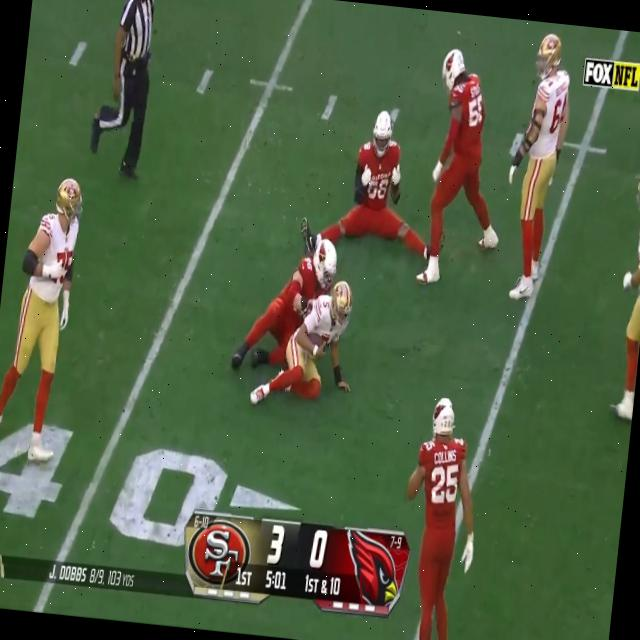Player: (0, 166, 81, 471), (416, 40, 508, 292), (390, 391, 479, 640), (504, 31, 577, 296), (329, 104, 433, 268), (605, 144, 640, 426), (281, 274, 353, 399), (277, 235, 336, 313)
Referee: (93, 0, 173, 176)
